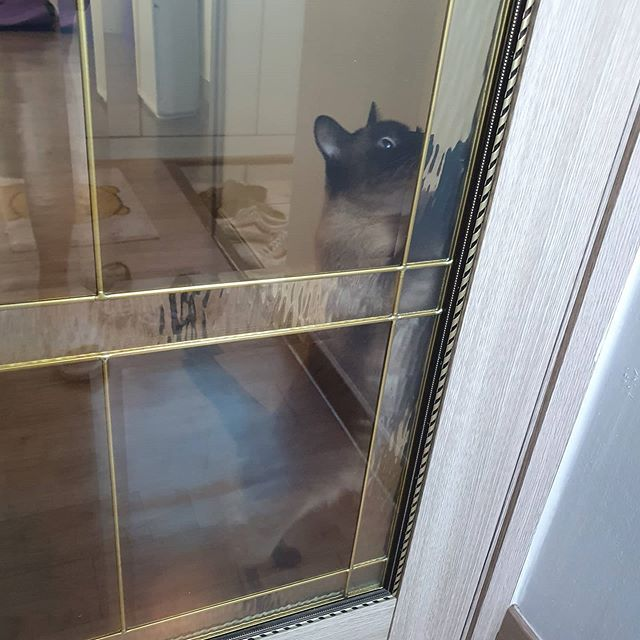cat: (313, 97, 439, 207)
